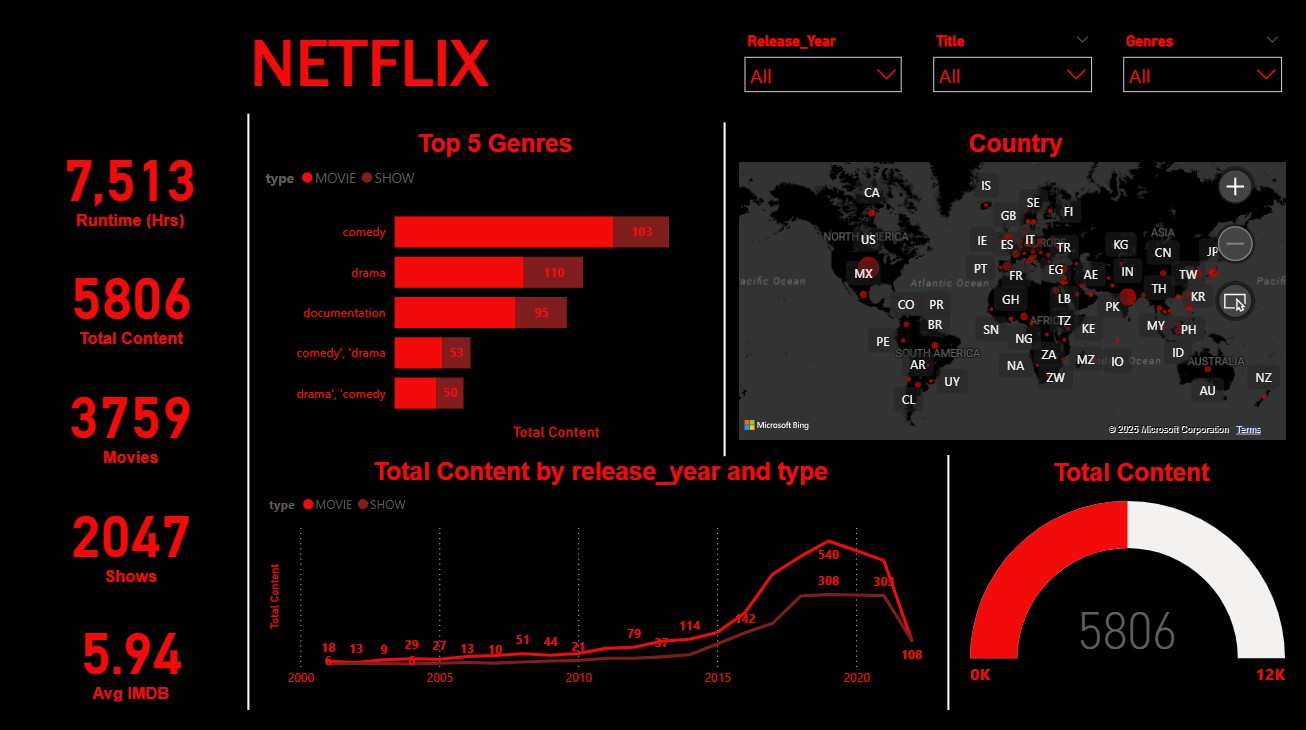

What the dashboard file says about the page in this screenshot:
{"tool":"powerbi","page":{"name":"Page 1","canvas":[1280,720],"ordinal":0},"visuals":[{"type":"card","fields":{"Values":["credits.Runtime (Hrs)"]},"box":[37,149.6,179.8,105.7],"z":0},{"type":"card","fields":{"Values":["credits.Total Content"]},"box":[34.3,255.2,181.1,104.3],"z":1000},{"type":"card","fields":{"Values":["credits.Movies"]},"box":[22,347.2,179.8,105.7],"z":2000},{"type":"card","fields":{"Values":["credits.Shows"]},"box":[22,452.8,179.8,104.3],"z":3000},{"type":"card","fields":{"Values":["credits.Avg IMDB"]},"box":[22,569.5,179.8,105.7],"z":4000},{"type":"barChart","title":"Top 5 Genres","fields":{"Category":["titles.genres"],"Y":["All Measures.Total Content"],"Series":["titles.type"]},"box":[253.8,138.8,457.5,315],"z":5000},{"type":"lineChart","fields":{"Category":["titles.release_year"],"Y":["All Measures.Total Content"],"Series":["titles.type"]},"box":[446.2,472.5,472.5,225],"z":6000},{"type":"map","title":"Country","fields":{"Category":["titles.production_countries"],"Size":["All Measures.Runtime (Hrs)"]},"box":[716.2,138.8,551.2,315],"z":7000},{"type":"donutChart","fields":{"Category":["titles.type"],"Y":["All Measures.Total Content"]},"box":[943.8,466.2,323.8,237.5],"z":7001},{"type":"slicer","fields":{"Values":["titles.release_year"]},"box":[716.2,53.1,179.2,70],"z":7002},{"type":"slicer","fields":{"Values":["titles.title"]},"box":[900.8,53.1,180,70],"z":7003},{"type":"slicer","fields":{"Values":["titles.genres"]},"box":[1086.9,52.3,180,70],"z":7004},{"type":"textbox","box":[36.7,0,674.4,123.3],"z":7005}]}

Visuals, with their boxes in screenshot pixels (x1, y1, x2, y2), scaled from the page's 1280x720 canvas onto the 1306x730 screenshot:
card - credits.Runtime (Hrs): left=38, top=152, right=221, bottom=259
card - credits.Total Content: left=35, top=259, right=220, bottom=364
card - credits.Movies: left=22, top=352, right=206, bottom=459
card - credits.Shows: left=22, top=459, right=206, bottom=565
card - credits.Avg IMDB: left=22, top=577, right=206, bottom=685
"Top 5 Genres" barChart: left=259, top=141, right=726, bottom=460
lineChart - titles.release_year x All Measures.Total Content: left=455, top=479, right=937, bottom=707
"Country" map: left=731, top=141, right=1293, bottom=460
donutChart - titles.type x All Measures.Total Content: left=963, top=473, right=1293, bottom=713
slicer - titles.release_year: left=731, top=54, right=914, bottom=125
slicer - titles.title: left=919, top=54, right=1103, bottom=125
slicer - titles.genres: left=1109, top=53, right=1293, bottom=124
textbox: left=37, top=0, right=726, bottom=125
